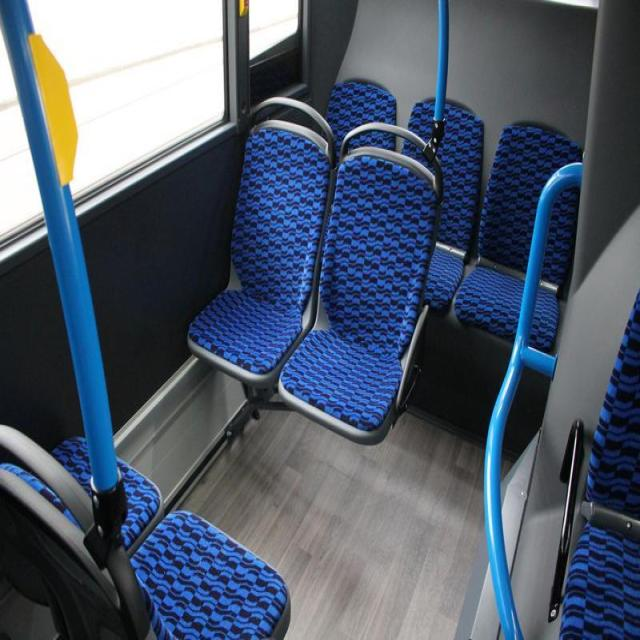empty-seat-frontal: (280, 121, 438, 445), (186, 95, 334, 393), (449, 121, 581, 362)
